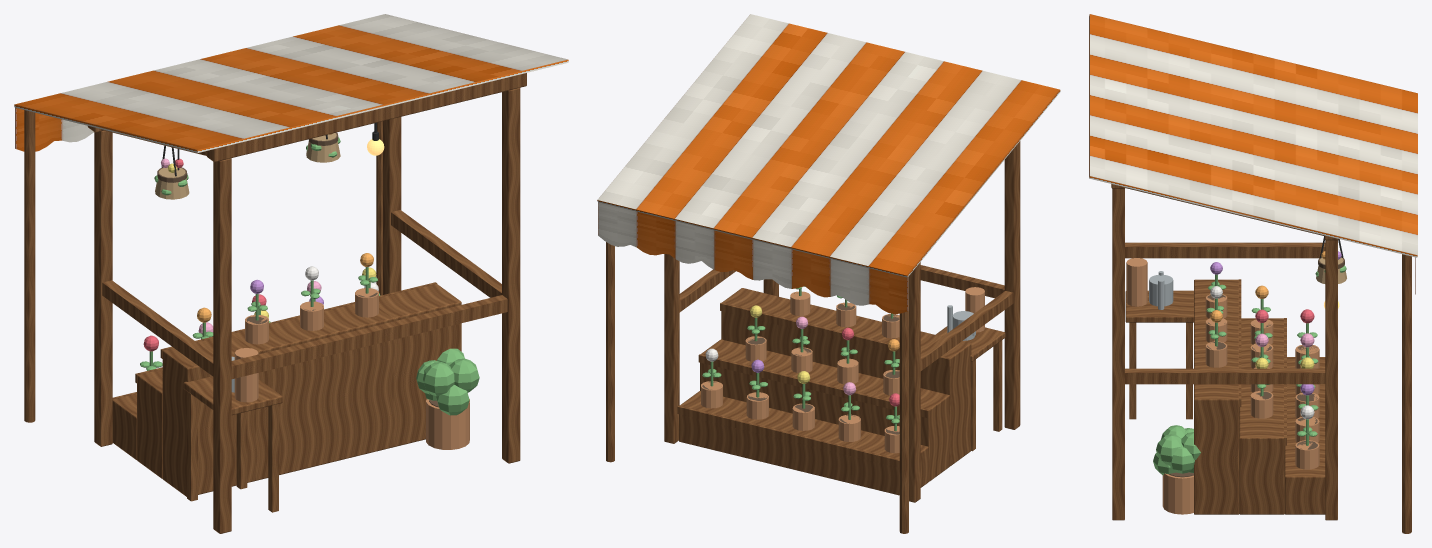
Rendered from kios-oranye-blender-v1.glb.
3 renders of one model, left to right at view 1: azimuth 30°, elevation 25°; view 2: azimuth 150°, elevation 25°; view 3: azimuth 270°, elevation 25°, orthographic. The views are drawn at different scales.
Visible parts, largest first — view 1: wood, canvas, goods; view 2: canvas, wood, goods; view 3: canvas, wood, goods.
Boxes of the visible parts, box(x1,y1,x2,y2) form: wood: box(24, 73, 526, 533); canvas: box(14, 14, 568, 152); goods: box(140, 132, 479, 449); canvas: box(597, 14, 1060, 314); wood: box(606, 141, 1020, 533); goods: box(701, 286, 984, 453); canvas: box(1089, 14, 1417, 294); wood: box(1111, 184, 1411, 533); goods: box(1126, 251, 1346, 514).
Bounding box in the file's own units: 2.7 × 2.8 × 2.31.
Materials: 17 (2 with a texture image).
